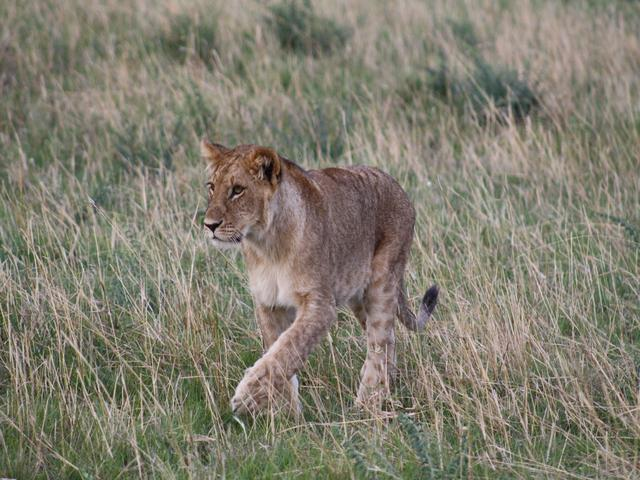lion: (192, 86, 454, 464)
